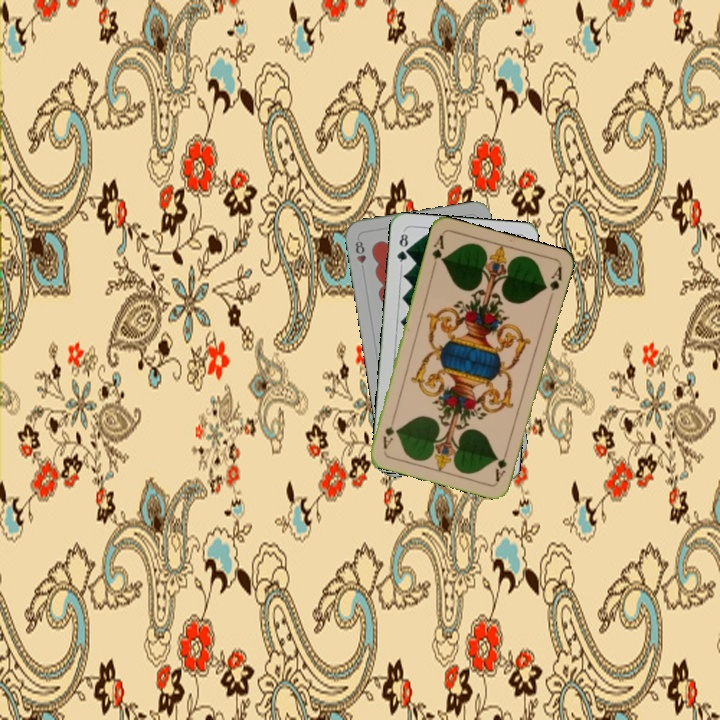G8: (393, 227, 411, 268)
GA: (491, 444, 511, 484), (428, 231, 447, 271)
H8: (351, 234, 368, 275)
